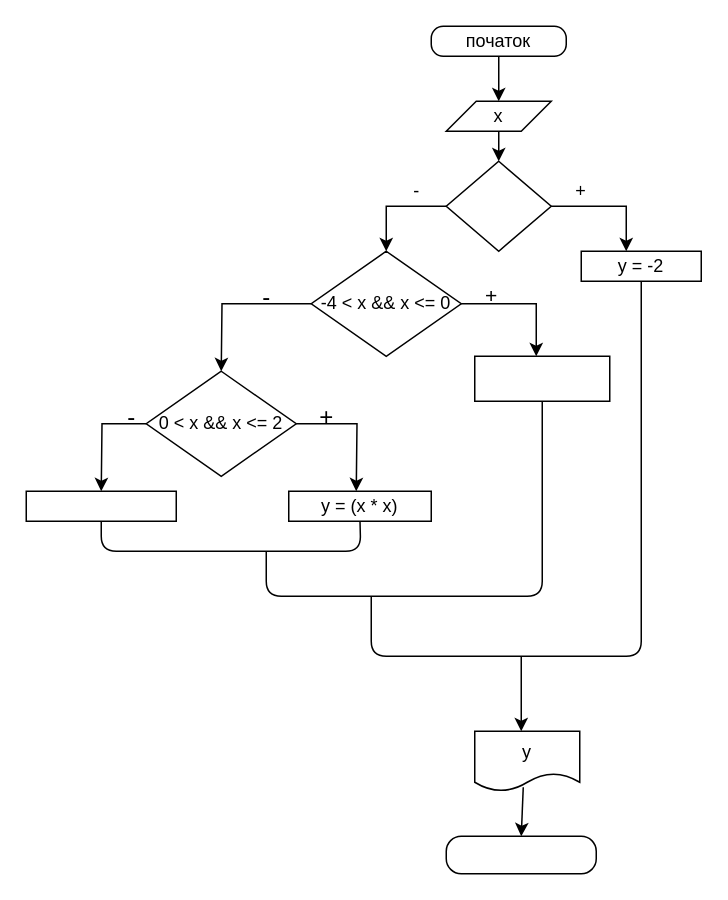
Some shapes in this 728 by 900 pixel diagram are drawn without their labels. Here are the shapes that lost their labels. From the top down, the box of each, then its label:
(445, 160, 551, 251): x <= -4
(473, 355, 610, 401): y = x / 4
(25, 490, 176, 521): y = (10 - x) / 2
(445, 835, 596, 874): кінець
